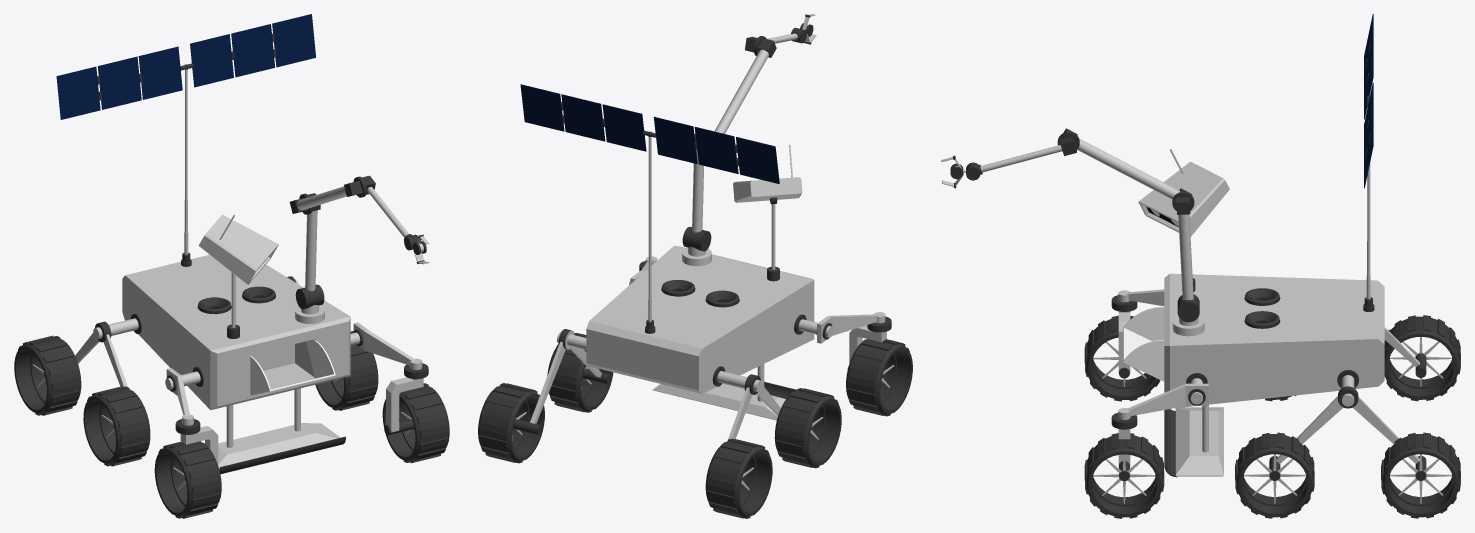
The model's file is Harvest.obj.
3 views of the same model, side by side, from view 1: azimuth 30°, elevation 25°; view 2: azimuth 150°, elevation 25°; view 3: azimuth 270°, elevation 25° (orthographic). The views are drawn at different scales.
Visible parts, largest first — view 1: Cube.001_Cube, Circle.002, Cube.003_Cube.004; view 2: Cube.001_Cube, Circle.002, Cube.003_Cube.004; view 3: Cube.001_Cube, Circle.002, Cube.003_Cube.004.
Part boxes in pixels (x1,y1,x2,y2): Cube.001_Cube: (56, 14, 350, 474); Circle.002: (14, 276, 449, 518); Cube.003_Cube.004: (289, 175, 429, 323); Cube.001_Cube: (520, 84, 814, 420); Circle.002: (478, 256, 912, 518); Cube.003_Cube.004: (682, 14, 816, 266); Cube.001_Cube: (1123, 14, 1384, 477); Circle.002: (1084, 289, 1460, 518); Cube.003_Cube.004: (941, 128, 1204, 336).
Size of the model in its own units: 0.4739 by 0.6145 by 0.7749.
